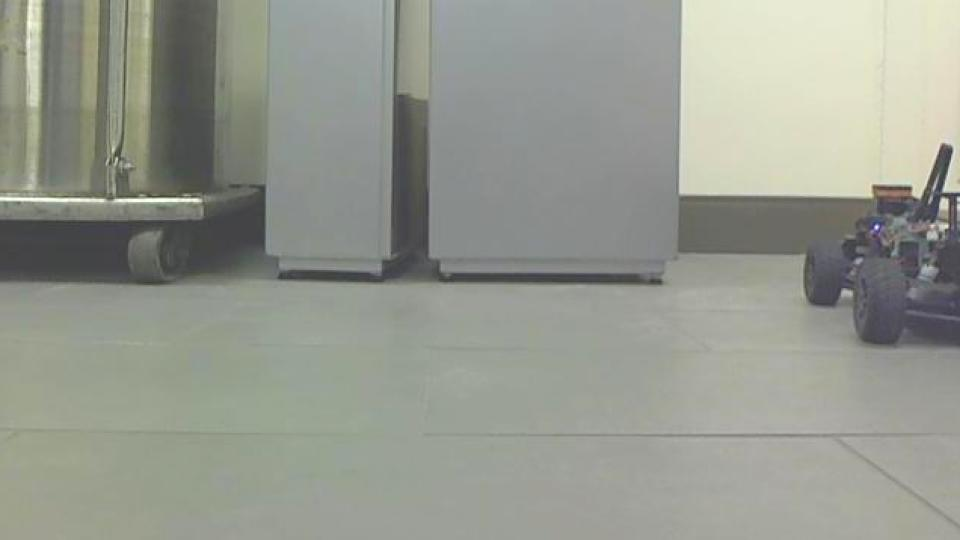car: (802, 140, 960, 348)
